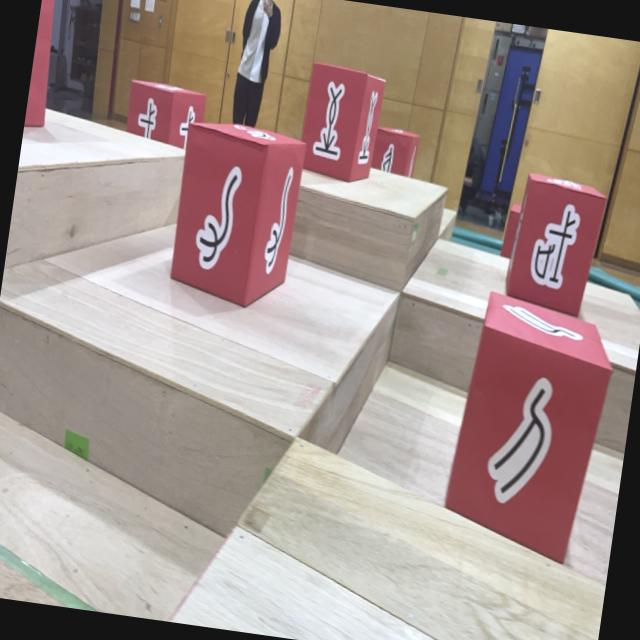10: (483, 370, 560, 509), (503, 304, 587, 344)
11: (380, 142, 395, 173)
13: (192, 161, 244, 274), (262, 166, 294, 275)
5: (528, 198, 582, 293)
7: (312, 81, 350, 161), (358, 89, 379, 164)
9: (136, 94, 160, 140), (178, 105, 198, 151)
fighter: (438, 287, 618, 566), (165, 116, 309, 314), (502, 170, 610, 320), (296, 61, 386, 186), (122, 77, 208, 151), (23, 0, 62, 130), (371, 125, 420, 178), (500, 204, 522, 259)
